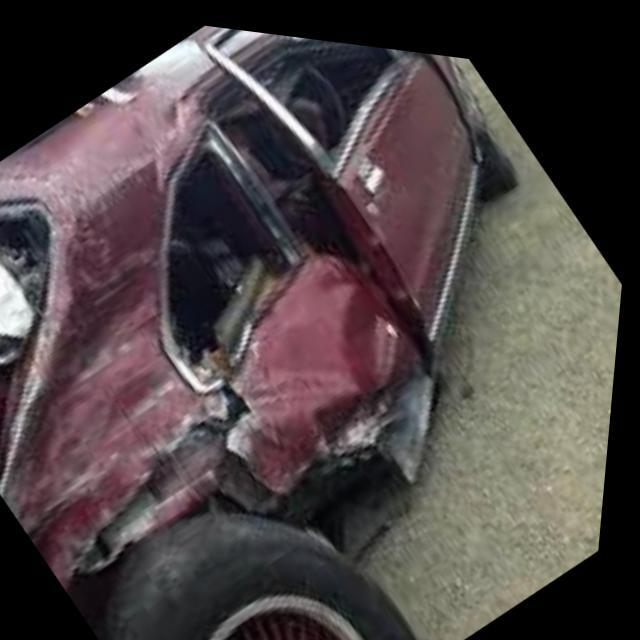crack: (49, 374, 298, 570)
dent: (9, 182, 202, 537)
dislocated part: (208, 127, 445, 487)
glass shatter: (170, 133, 302, 381)
